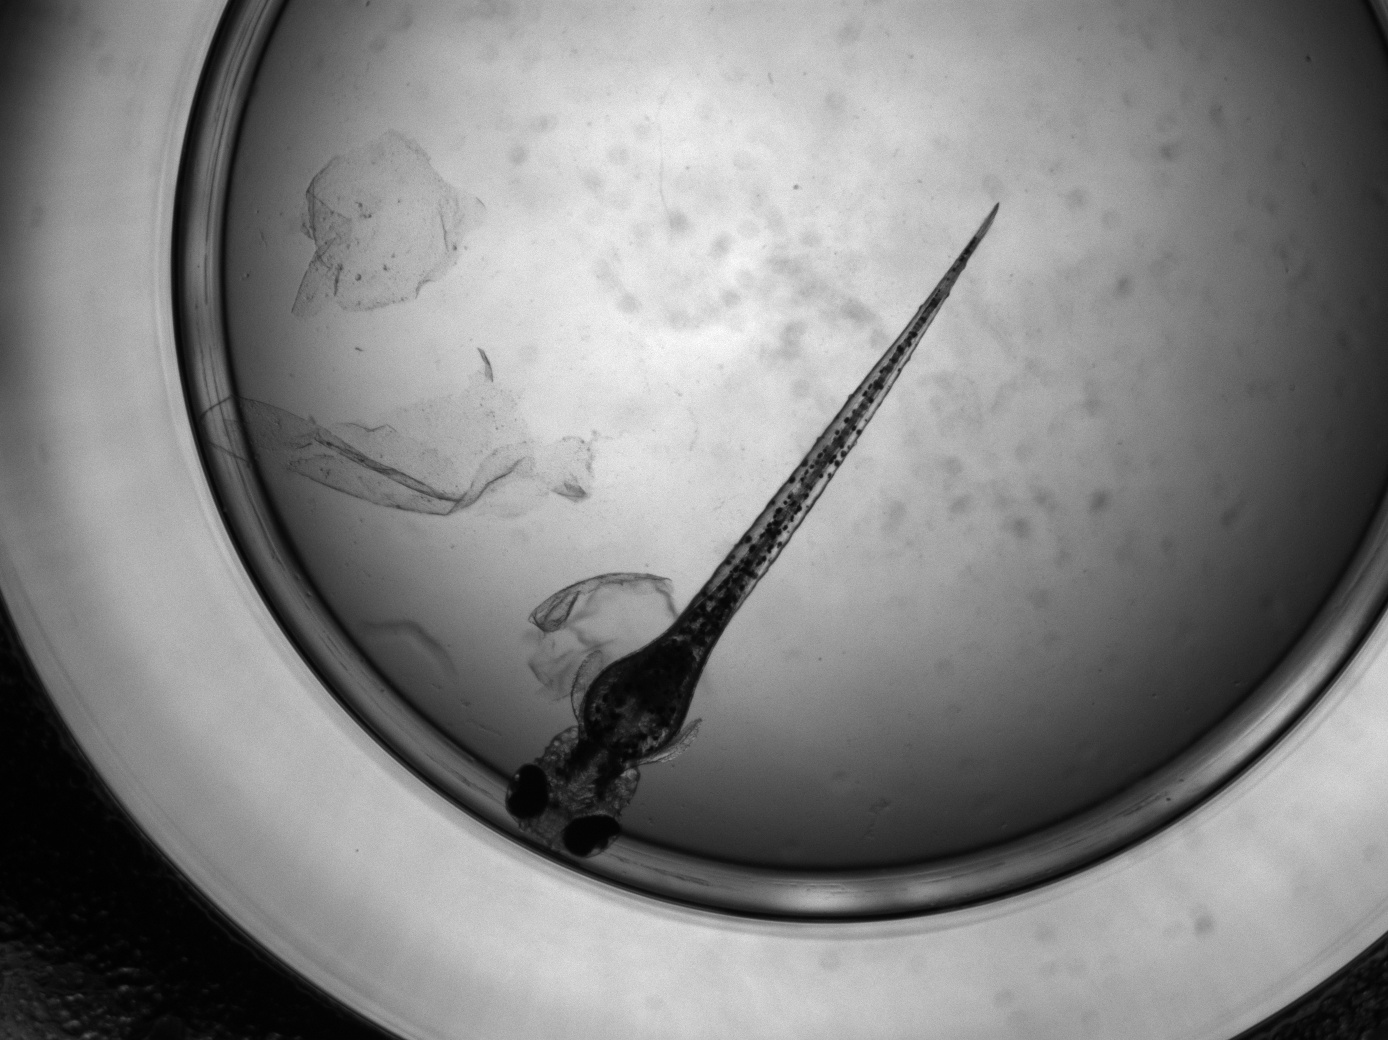debris: (238, 383, 589, 515), (292, 131, 487, 317), (526, 574, 675, 689)
embryo: (505, 198, 1000, 859)
eye: (561, 815, 621, 858), (506, 763, 549, 820)
yolksac: (577, 652, 695, 758)
